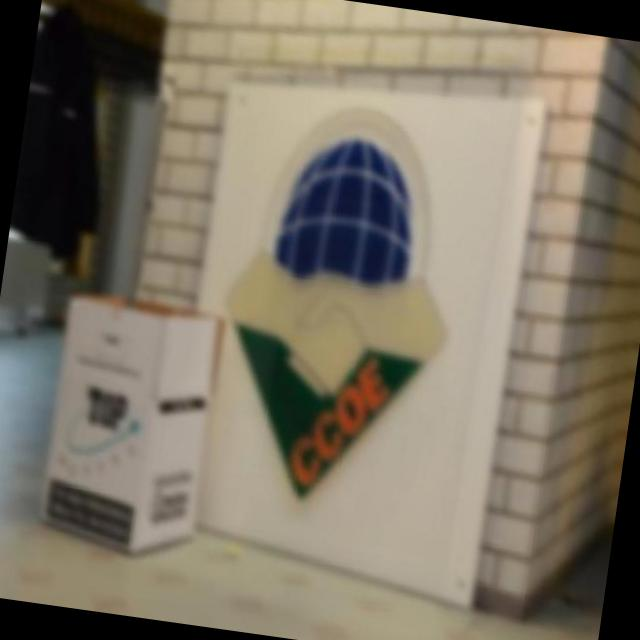box: (25, 281, 234, 576)
